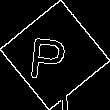P_N: (34, 28, 76, 82)
